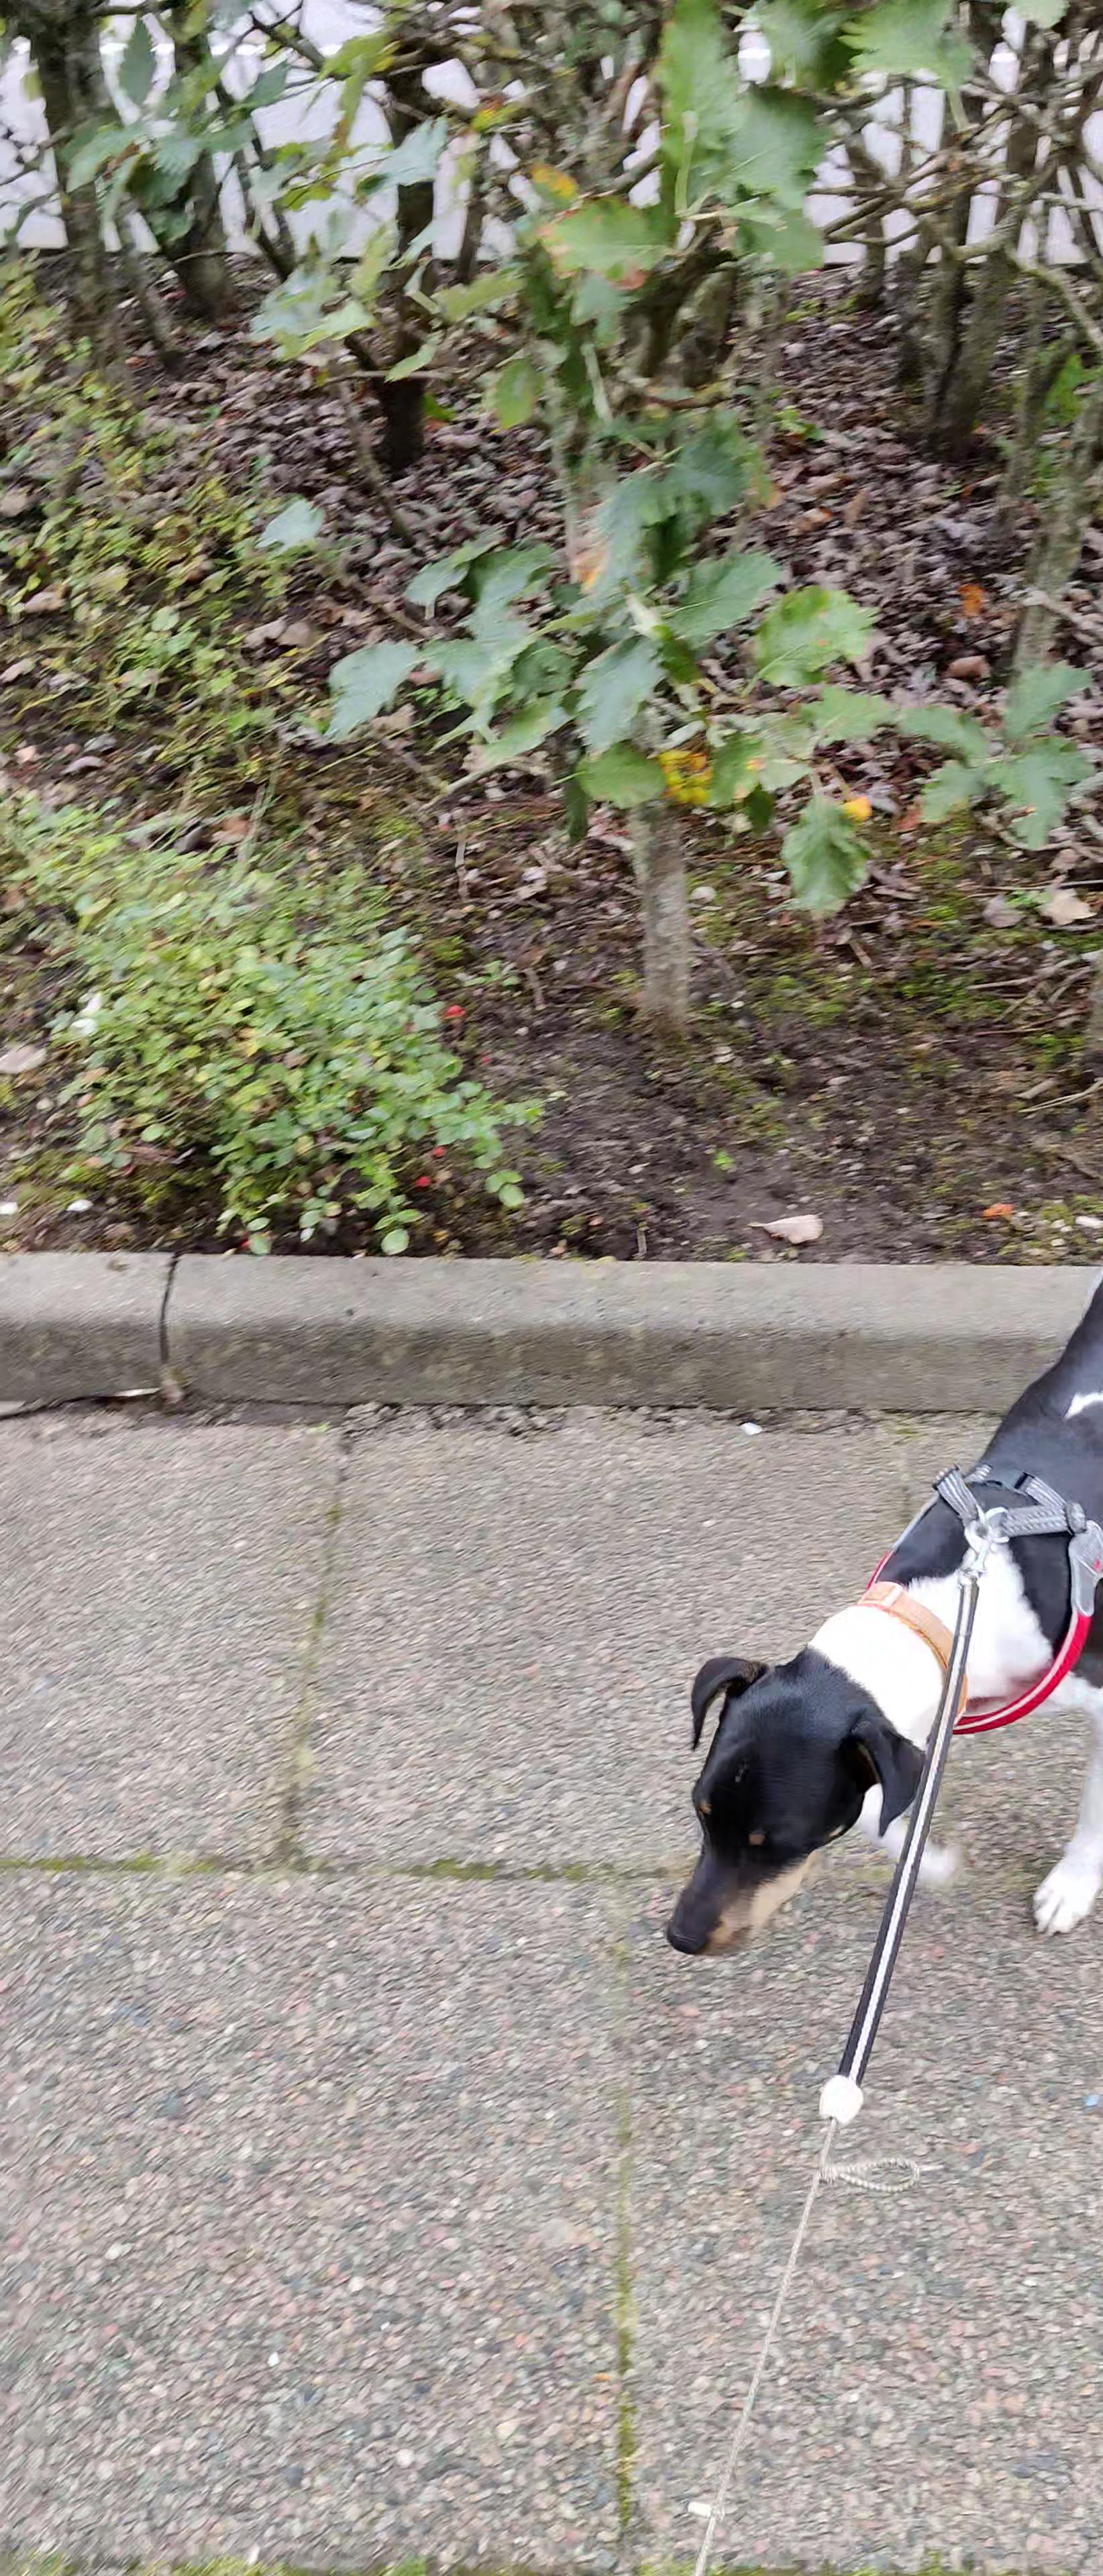Dog: (639, 1250, 1103, 2006)
